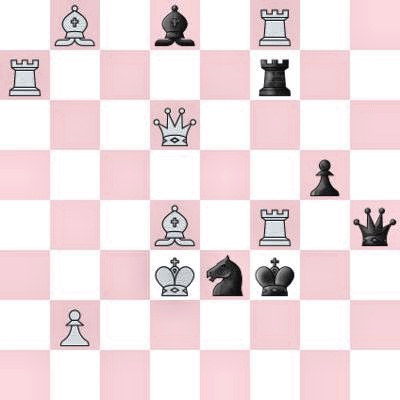black-bishop: (150, 0, 200, 50)
black-king: (250, 250, 300, 300)
black-knight: (200, 250, 250, 300)
black-pawn: (300, 150, 350, 200)
black-queen: (350, 200, 400, 250)
black-rook: (250, 50, 300, 100)
white-bishop: (50, 0, 100, 50), (150, 200, 200, 250)
white-king: (150, 250, 200, 300)
white-pawn: (50, 300, 100, 350)
white-queen: (150, 100, 200, 150)
white-rook: (250, 0, 300, 50), (0, 50, 50, 100), (250, 200, 300, 250)
